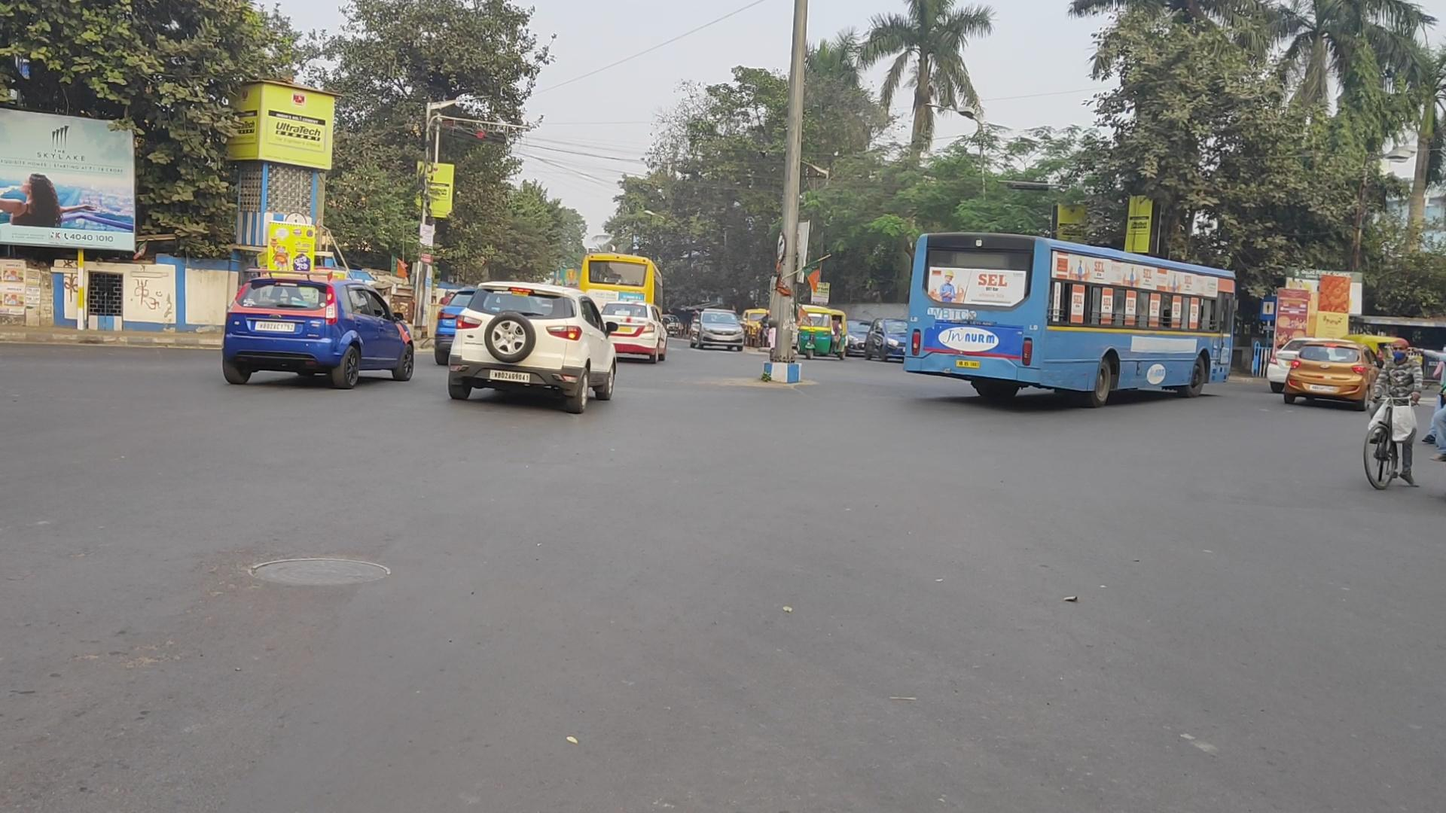Auto: (1266, 336, 1371, 394)
Bus: (904, 232, 1236, 408), (576, 252, 664, 334)
bike: (1363, 339, 1423, 493)
car: (222, 267, 415, 389), (446, 282, 619, 415), (1284, 342, 1384, 411), (598, 300, 670, 367), (797, 306, 847, 361), (689, 309, 745, 353), (863, 318, 911, 363)
